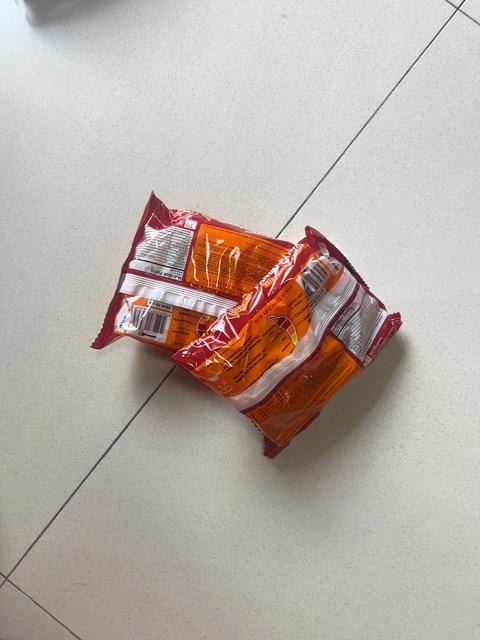Noodles: (172, 226, 405, 462), (88, 188, 296, 379)
